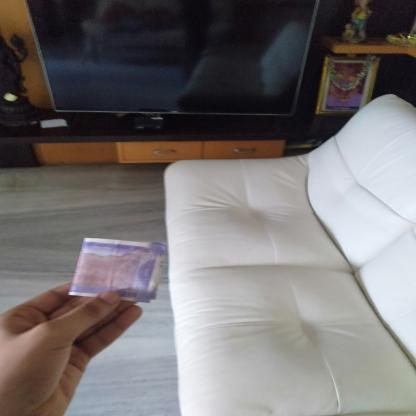New100Back: (70, 241, 157, 294)
